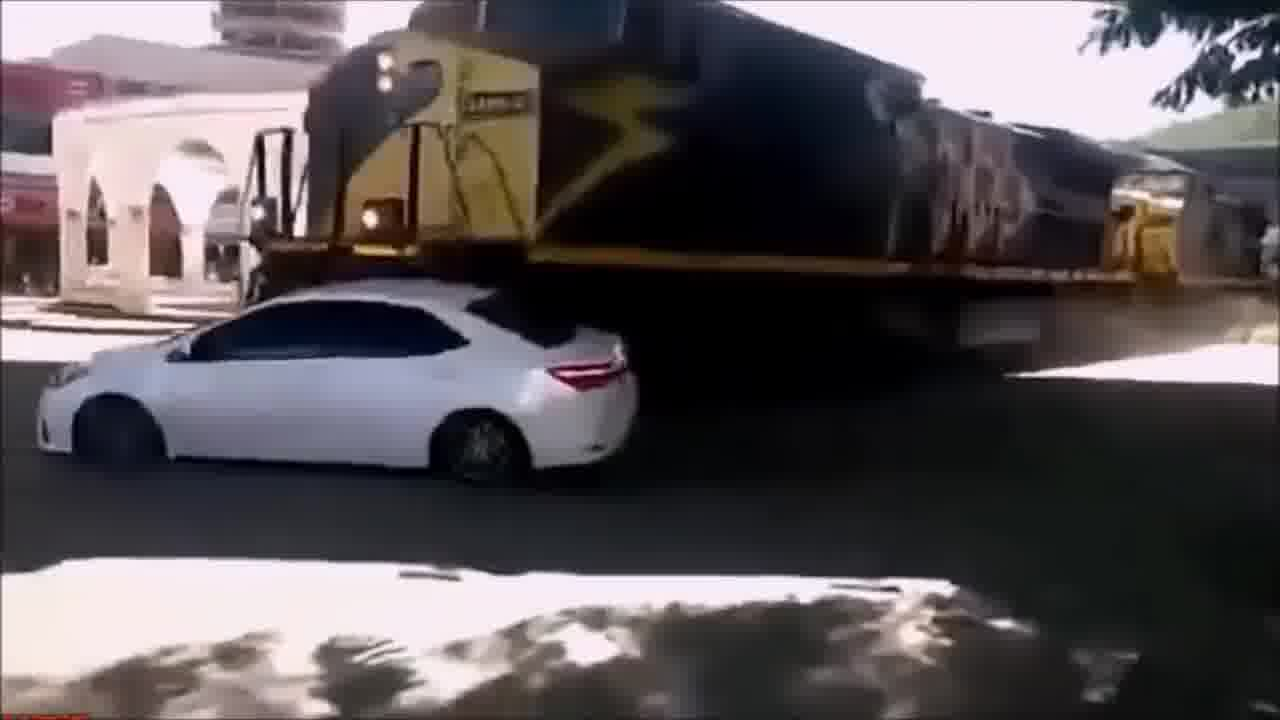crossing railway track: (33, 224, 701, 551)
